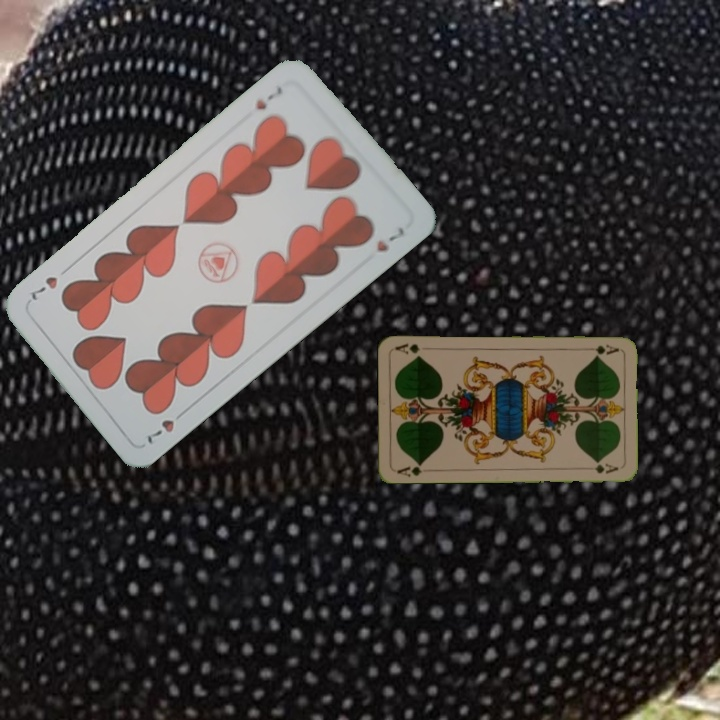GA: (393, 459, 425, 479), (581, 341, 621, 357)
H7: (142, 405, 190, 448), (252, 82, 285, 113)
